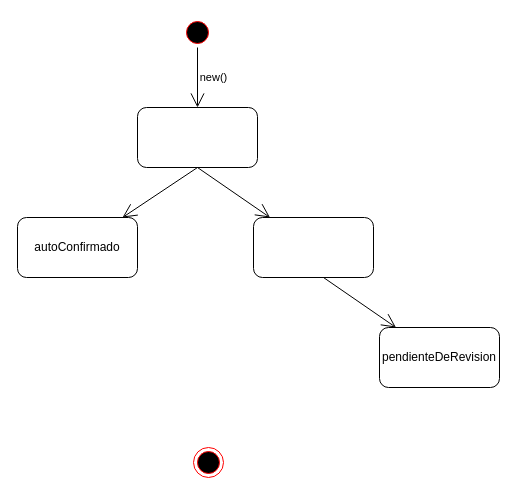
The diagram is 517 pixels wide and 495 high, and some of its shapes have lost their labels. The shapes that lost their labels are listed below. From the top down, each one's centre as x and y in pixels, then its label:
(x=197, y=137): Detectado
(x=313, y=247): autoDetectado
